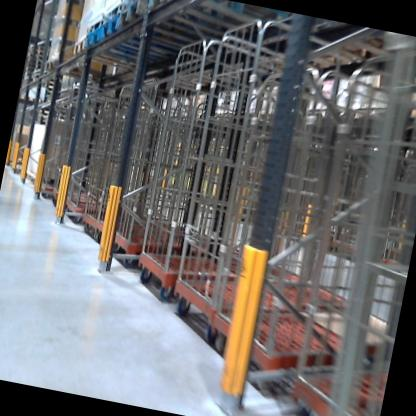pallet: (113, 0, 264, 76), (93, 12, 219, 71), (81, 21, 205, 77), (69, 36, 186, 90), (143, 0, 272, 35)
